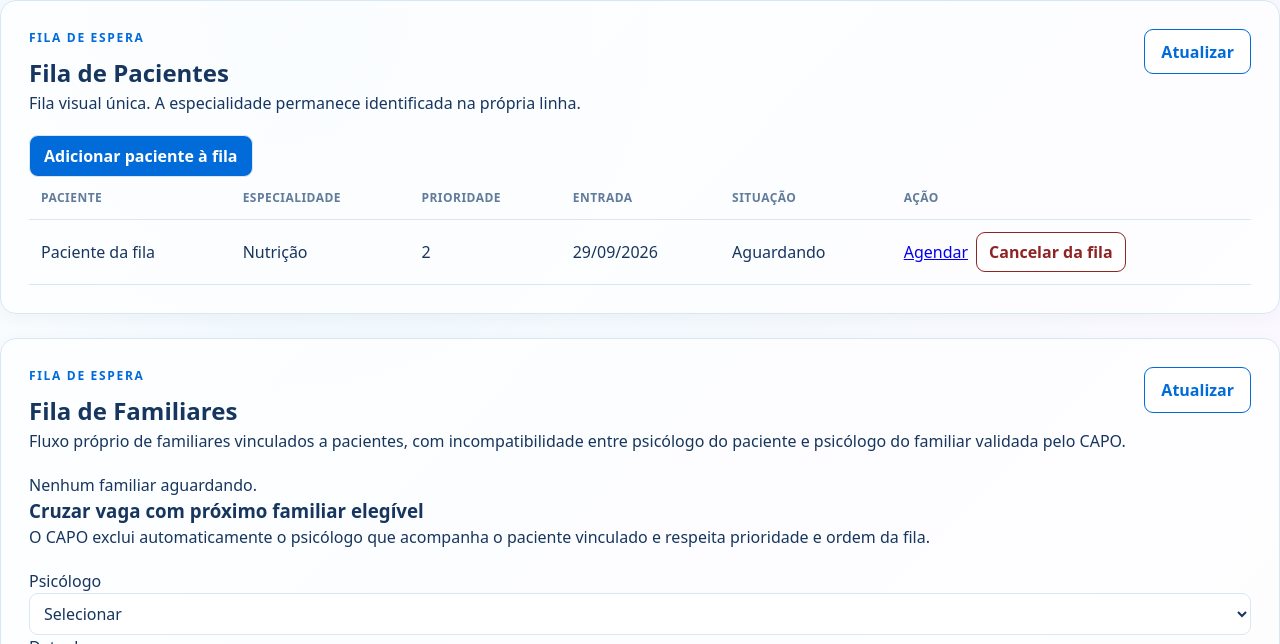
Scenario: cancela paciente da fila ativa com motivo e recarrega a lista
This screenshot has width=1280, height=644.
Click the button "Cancelar da fila" at (1051, 252), box [976,232,1126,272]
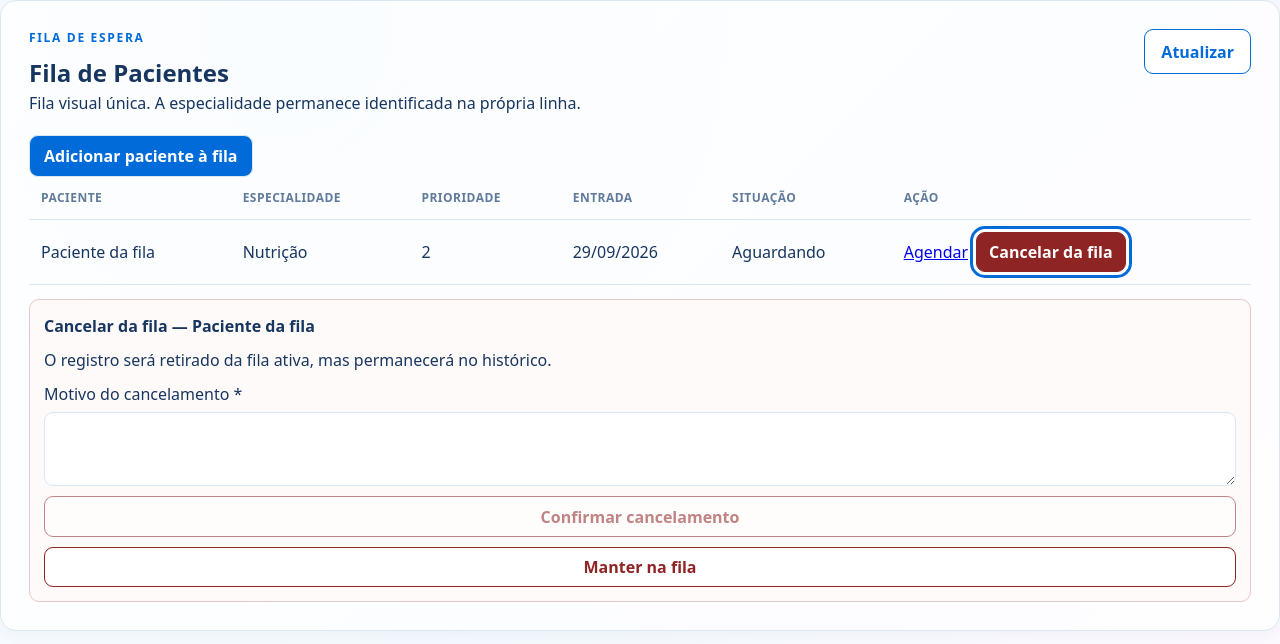
Type "Paciente solicitou retirada" into the text box labelled "Motivo do cancelamento *" at (640, 449), box [44,412,1236,486]
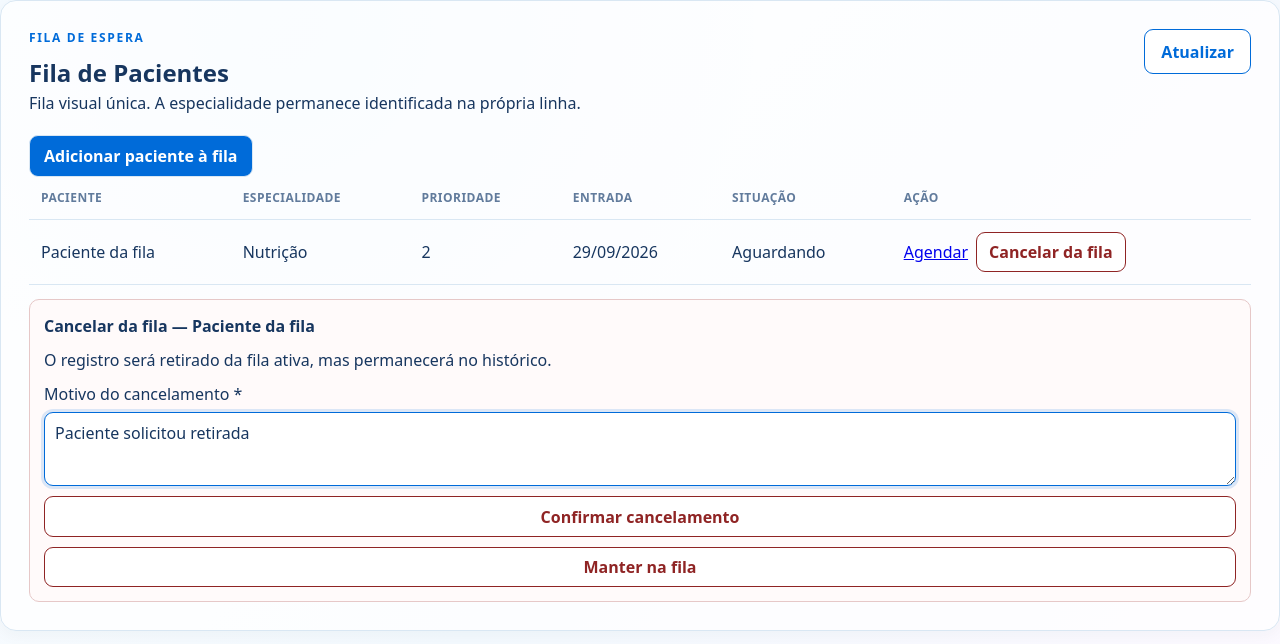
Click the button "Confirmar cancelamento" at (640, 517), box [44,496,1236,537]
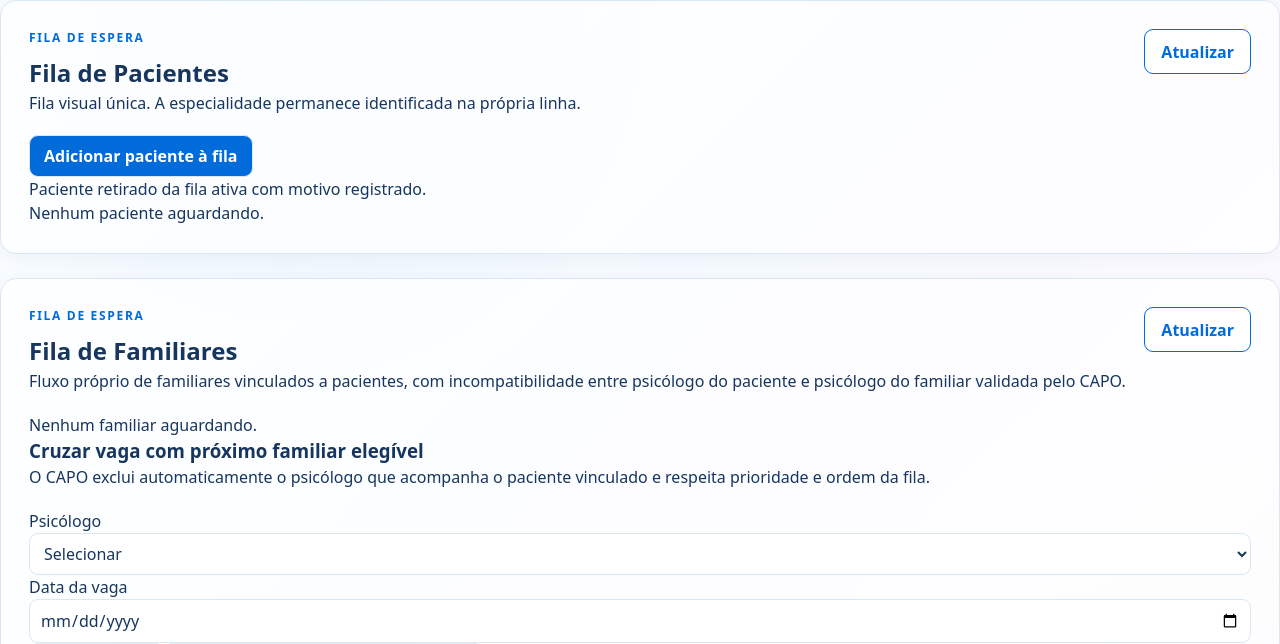
Check: the text "Paciente retirado da fila ativa com motivo registrado." is shown, box [29,178,426,200]
